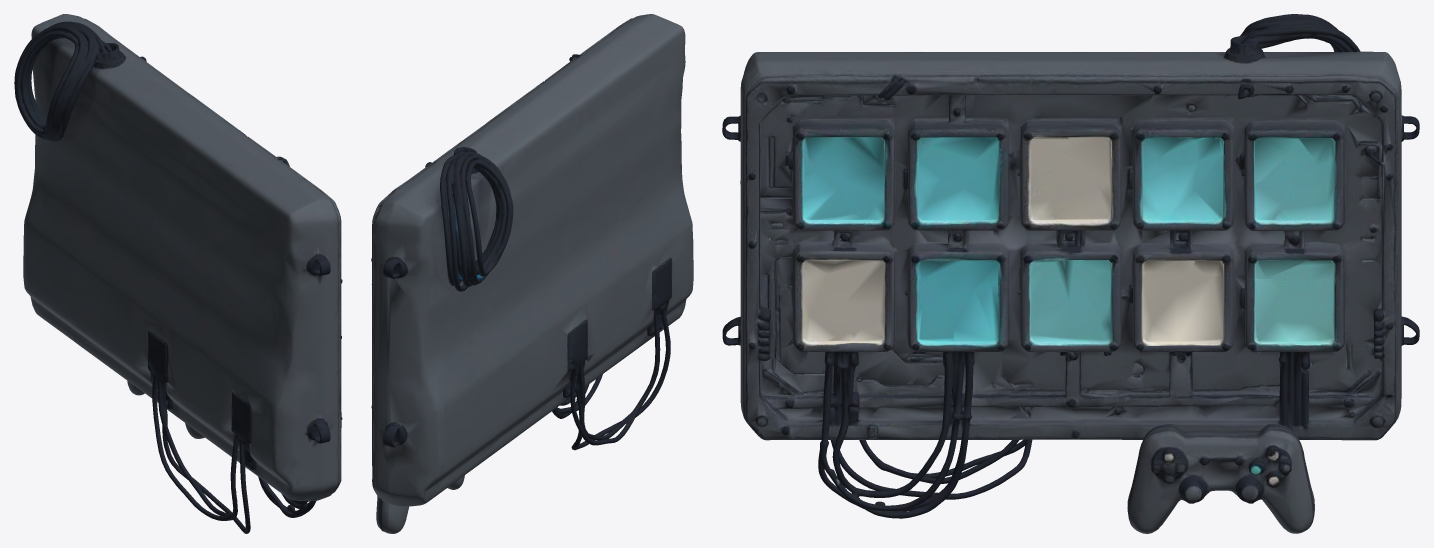
The picture shows the model from 3 angles, left to right: view 1: azimuth 30°, elevation 25°; view 2: azimuth 150°, elevation 25°; view 3: azimuth 270°, elevation 25°; orthographic projection. The views are drawn at different scales.
Parts seen in each view (by area): view 1: tripo_node_2cb866ef-13ce-40b8-a269-c286ffea6553; view 2: tripo_node_2cb866ef-13ce-40b8-a269-c286ffea6553; view 3: tripo_node_2cb866ef-13ce-40b8-a269-c286ffea6553.
Part boxes in pixels (left/top/right/bottom): tripo_node_2cb866ef-13ce-40b8-a269-c286ffea6553: left=14, top=14, right=342, bottom=533; tripo_node_2cb866ef-13ce-40b8-a269-c286ffea6553: left=371, top=14, right=693, bottom=533; tripo_node_2cb866ef-13ce-40b8-a269-c286ffea6553: left=722, top=14, right=1419, bottom=533.
Size of the model in its own units: 0.2655 by 0.7513 by 1.
Materials: 1 (1 with a texture image).
